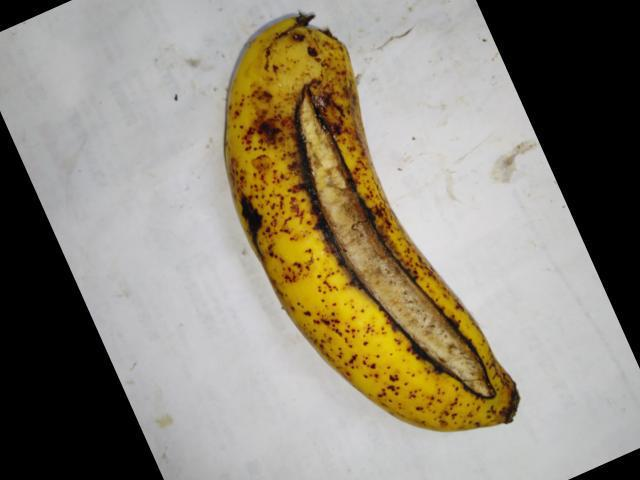ripe: (210, 3, 529, 441)
rotten: (331, 212, 503, 410), (281, 76, 387, 246)
